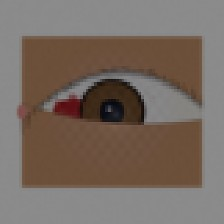hemorrhage_spot: (45, 86, 106, 136)
